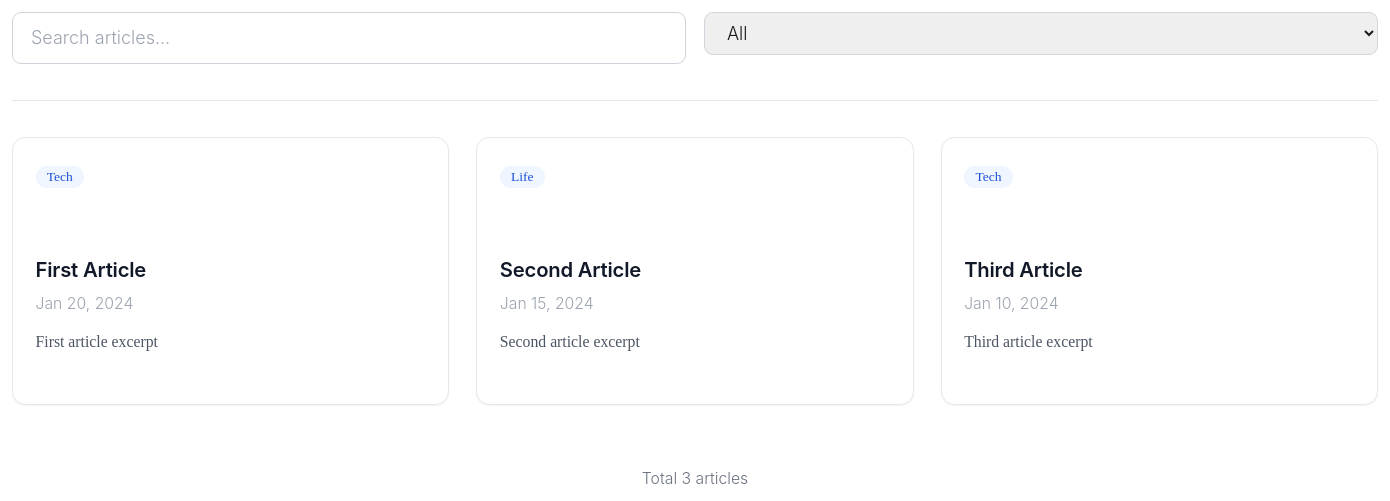
Test: PostsClient › 搜索功能正常工作
The image size is (1390, 501).
Type "First" into the field with placeholder "Search articles..." at (349, 38), box [12, 12, 686, 64]
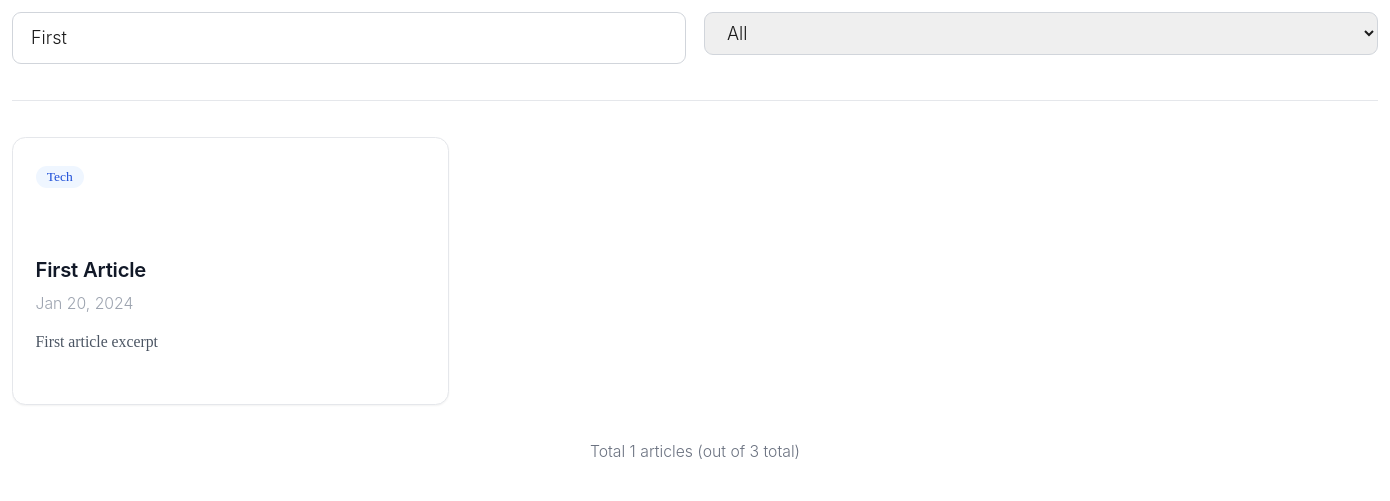
Check: the heading "First Article" is shown, box [36, 257, 146, 282]
Check: the link "Second Article" is gone
Check: the link "Third Article" is gone
